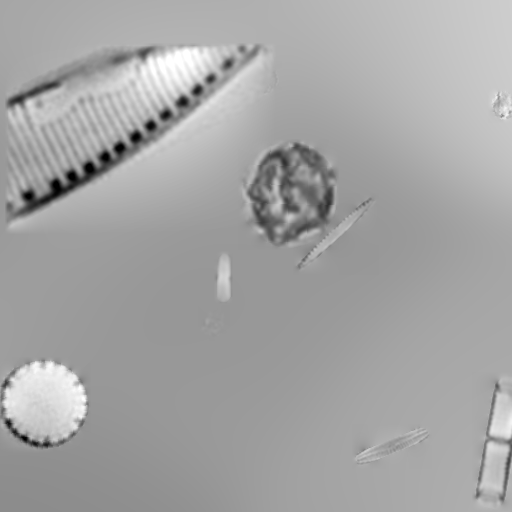ADPY: (348, 419, 436, 473)
AUGR: (469, 368, 512, 512)
CAGR: (0, 348, 96, 462)
GPRI: (212, 249, 234, 305)
NFON: (0, 0, 288, 284)
NSOC: (288, 189, 384, 279)
